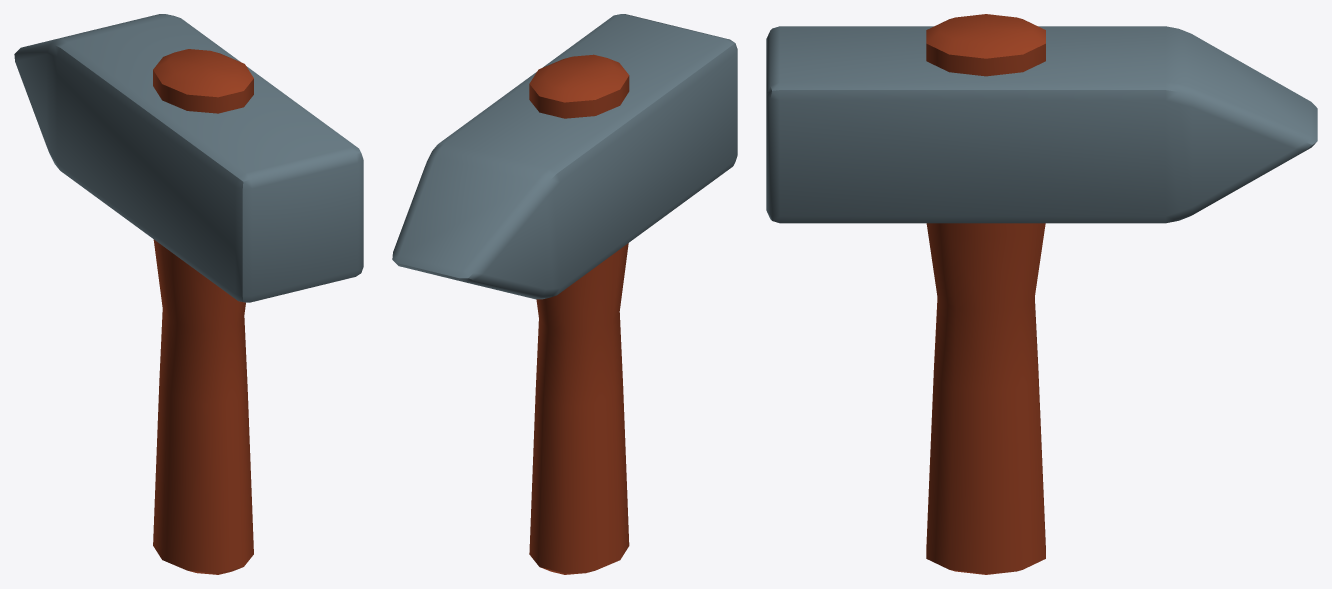
File: hammer.obj
The picture shows the model from 3 angles, left to right: view 1: azimuth 30°, elevation 25°; view 2: azimuth 150°, elevation 25°; view 3: azimuth 270°, elevation 25°; orthographic projection. The views are drawn at different scales.
Visible parts, largest first — view 1: hammer_Cube.129; view 2: hammer_Cube.129; view 3: hammer_Cube.129.
Part boxes in pixels (box(x1,y1,x2,y2)): hammer_Cube.129: box(14, 14, 363, 574); hammer_Cube.129: box(392, 14, 737, 574); hammer_Cube.129: box(766, 14, 1317, 574).
Size of the model in its own units: 0.1198 by 0.4418 by 0.4152.
